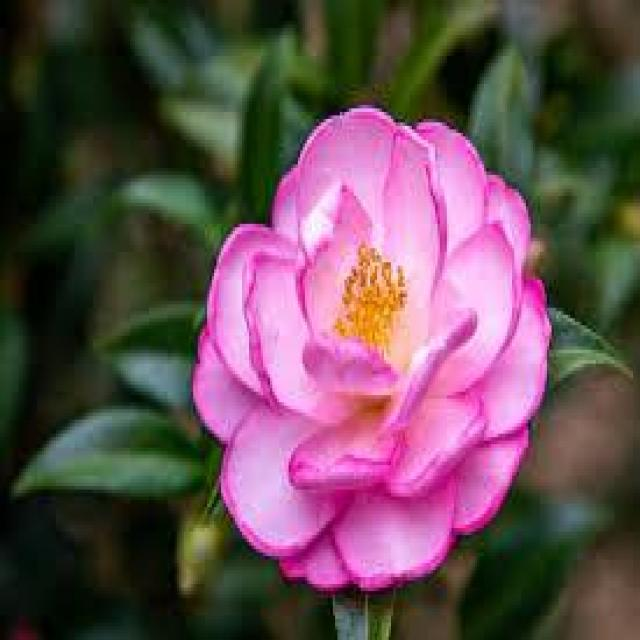organic waste: (190, 112, 557, 591)
